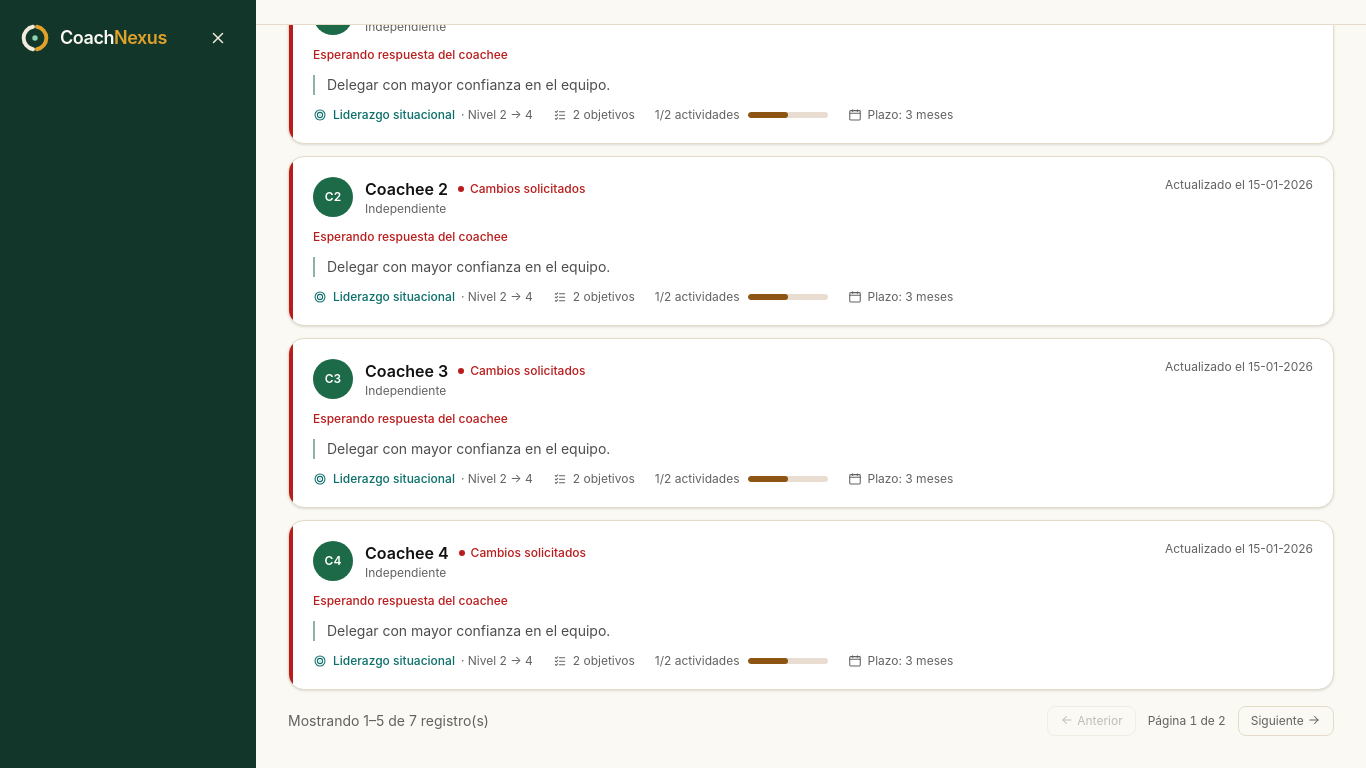
Scenario: PlanesListView › caps the list at 5 cards per page and paginates the rest
(page scrolled)
Check: the text "Coachee 5" is not shown
Click the button "Siguiente".
click(1286, 721)  # box top-left (1238, 706), bottom-right (1334, 736)
(page scrolled)
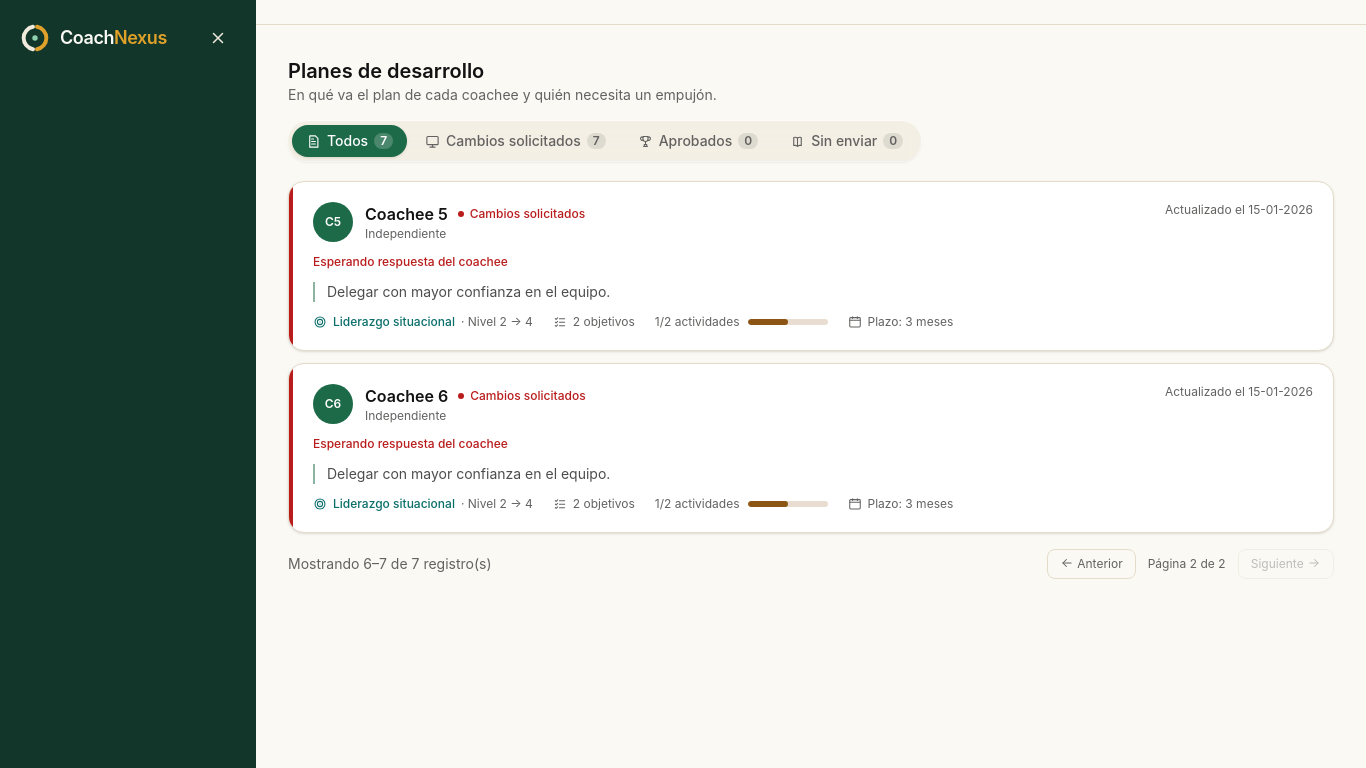
Check: the text "Coachee 5" is shown, box top-left (365, 202), bottom-right (448, 226)
Check: the text "Coachee 6" is shown, box top-left (365, 384), bottom-right (448, 408)
